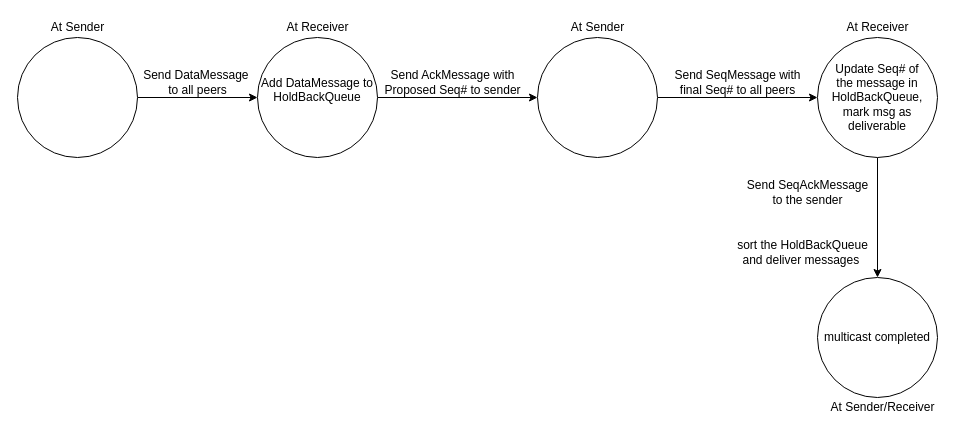
Image size: 960x434. Some labels were removed from this diagram. Here are the shapes that lost their labels. From the top down, the box of each, then its label:
(16, 36, 138, 158): Start of a multicast
(536, 36, 658, 158): On receiving Acks from all peers select final seq# for the message
